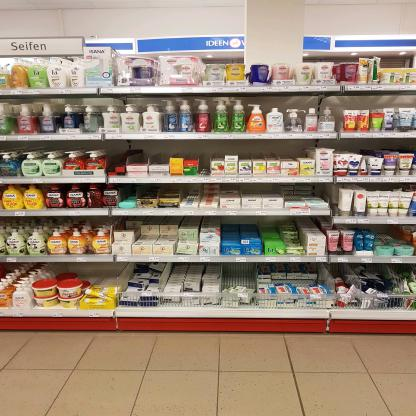Void: (151, 141, 304, 153), (89, 266, 115, 283), (224, 216, 256, 225), (245, 186, 280, 194), (64, 264, 80, 272), (202, 158, 209, 174), (379, 224, 390, 234)
